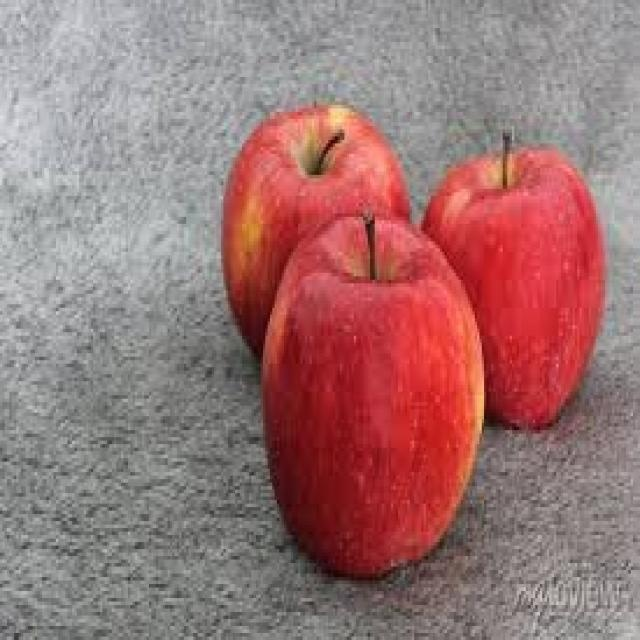agrume: (267, 190, 492, 570), (210, 83, 434, 429), (422, 65, 626, 439)
